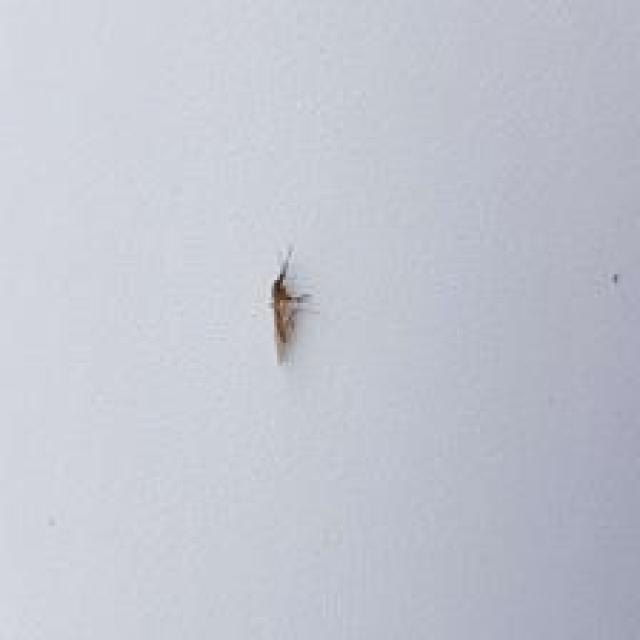Culex: (267, 244, 310, 364)
